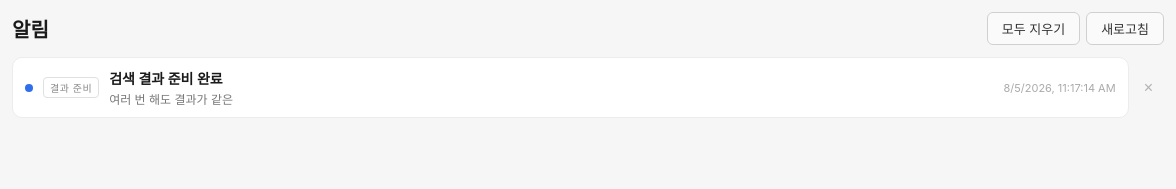
Test: 알림 목록 › 지우기가 실패하면 항목이 남고 이유를 보여준다
expect the text "검색 결과 준비 완료" is shown: met, box [109,70,223,87]
Click the button named "검색 결과 준비 완료 지우기" at (1148, 88), box [1133,57,1164,118]
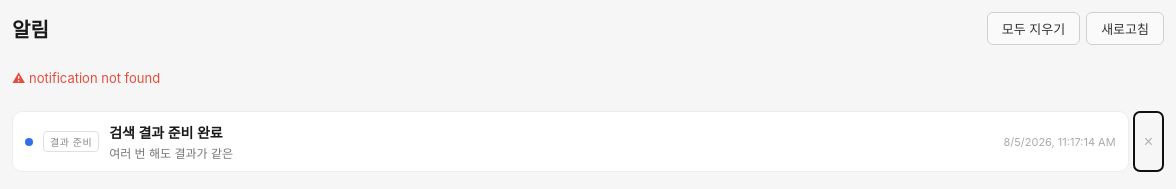
expect the text "검색 결과 준비 완료" is shown: met, box [109,124,223,141]
expect the text "⚠ notification not found" is shown: met, box [12,70,160,86]
